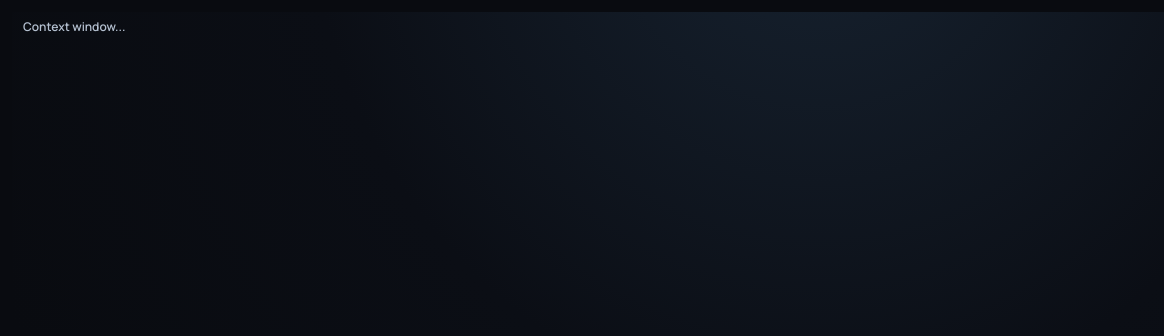
it: ContextChoice › explains the tradeoff of the selected window
Click the button "Context window...".
click(74, 27)  # box [12,12,136,42]
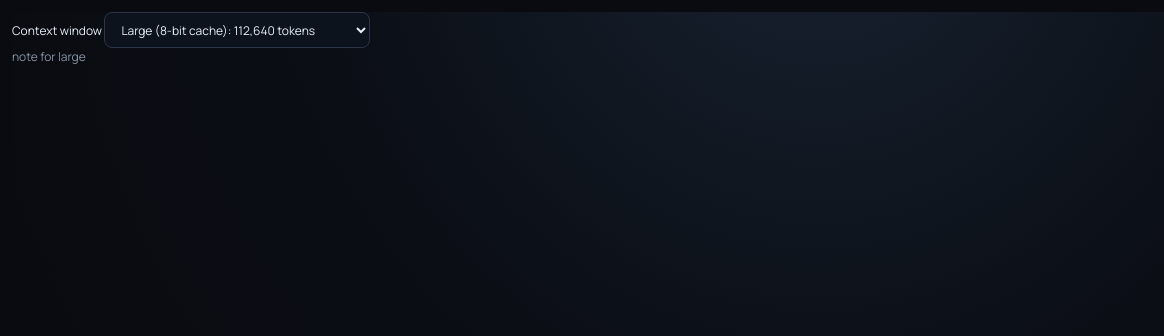
Expected: the text "note for large" is shown, [12,48,86,65]
